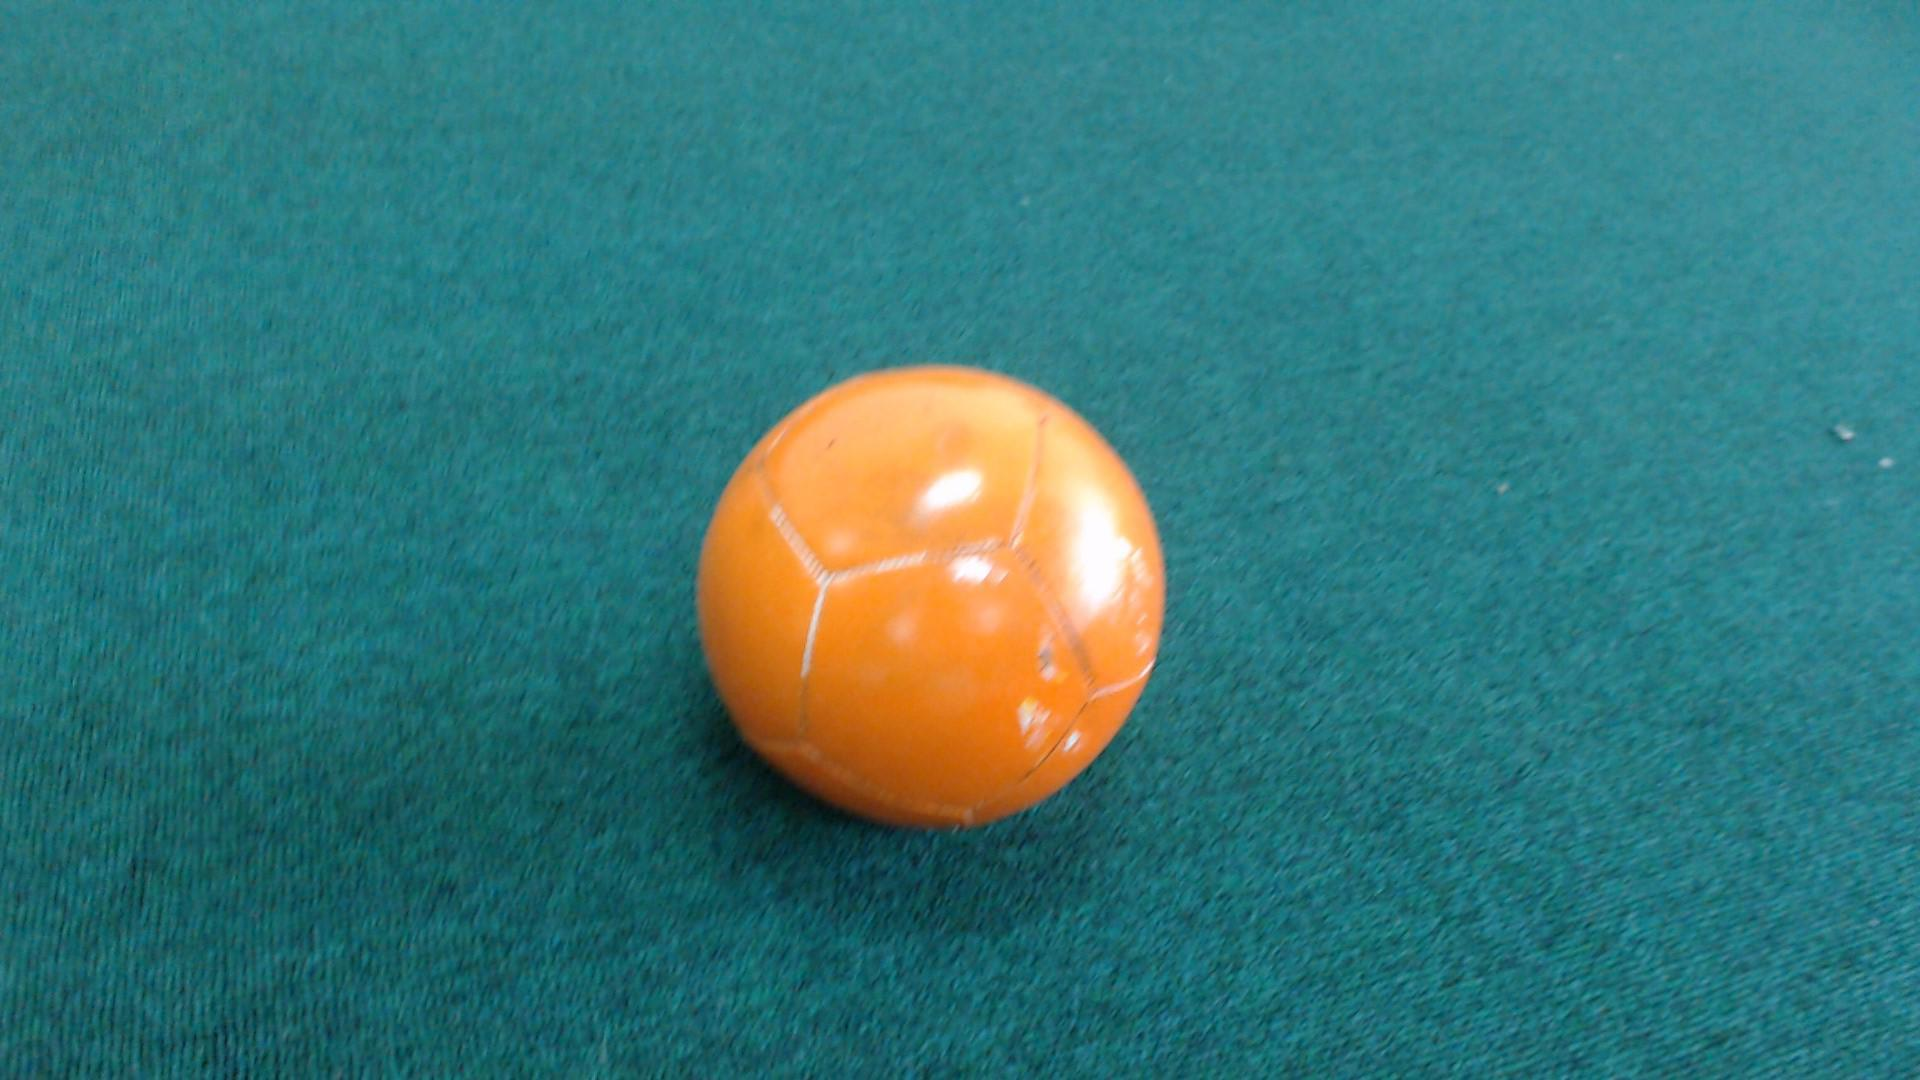bola: (659, 344, 1221, 844)
